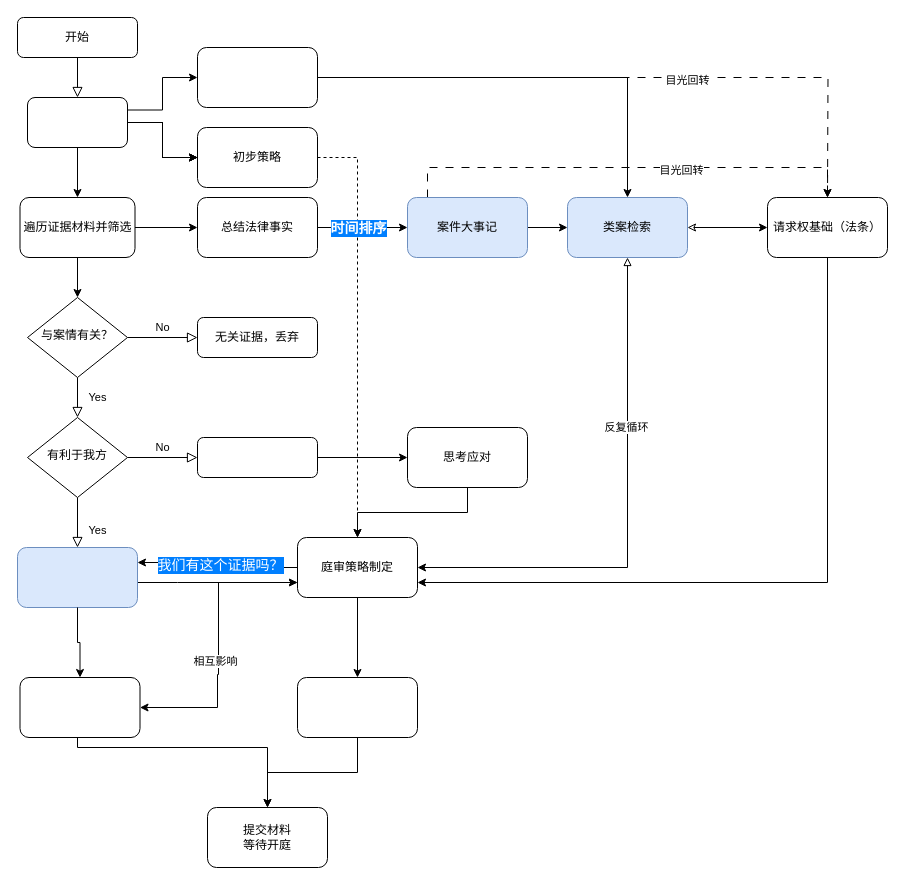
This 905x885 diagram has some shape labels left out. Each missing label, with the centre of its shape:
"不利证据" belongs at [257,457].
"与客户沟通" belongs at [77,122].
"初步案情" belongs at [257,77].
"按数字标号的证据" belongs at [77,577].
"撰写起诉书/答辩状" belongs at [357,707].
"证据目录" belongs at [79,707].
